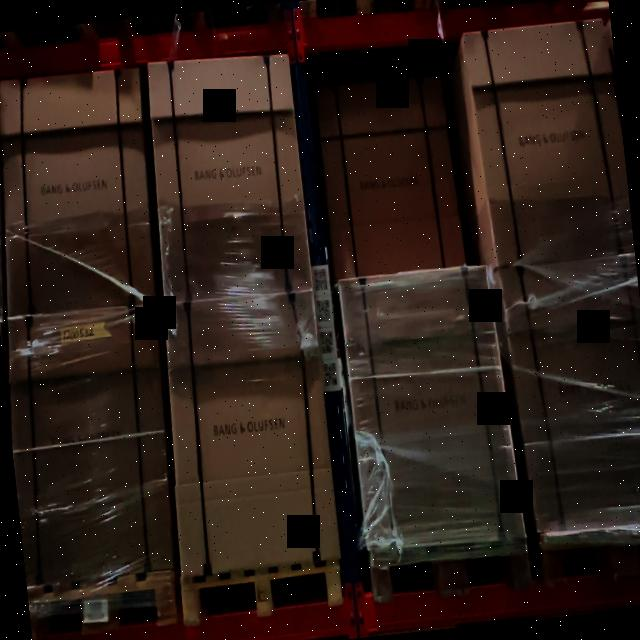box: (340, 265, 525, 555), (165, 291, 344, 574), (148, 52, 314, 302), (0, 68, 156, 317)
